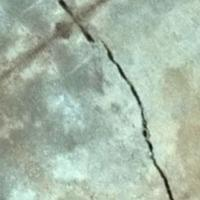crack: (50, 0, 189, 199)
